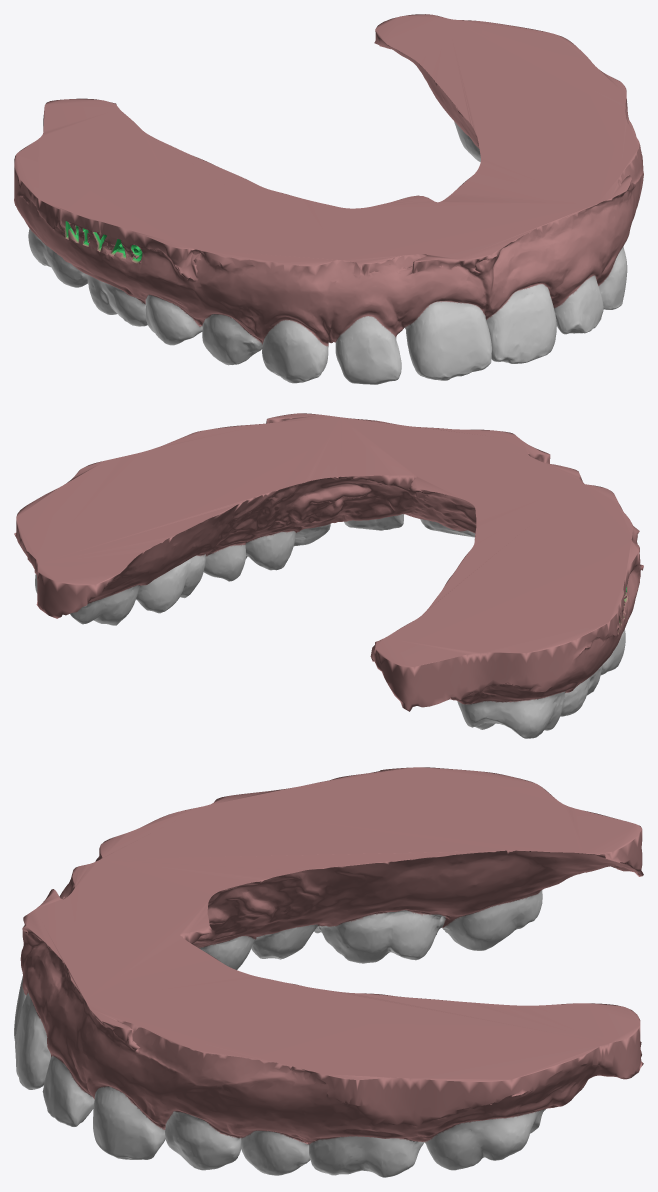
File: Niya Priority Upper jaw - 09 - Model.glb
The picture shows the model from 3 angles, top to bottom: view 1: azimuth 30°, elevation 25°; view 2: azimuth 150°, elevation 25°; view 3: azimuth 270°, elevation 25°; orthographic projection. The views are drawn at different scales.
Visible parts, largest first — view 1: Niya Priority Upper jaw - 09 - Model; view 2: Niya Priority Upper jaw - 09 - Model; view 3: Niya Priority Upper jaw - 09 - Model.
Boxes of the visible parts, x1,y1,x2,y2 form: Niya Priority Upper jaw - 09 - Model: (14,14,643,384); Niya Priority Upper jaw - 09 - Model: (14,413,643,738); Niya Priority Upper jaw - 09 - Model: (14,767,643,1177).
Bounding box in the file's own units: 66.35 × 13.71 × 56.08.
